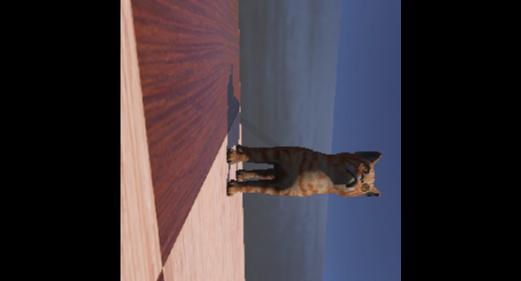Cat: (216, 120, 388, 232)
